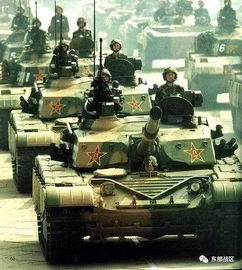10+: (1, 1, 242, 111)
